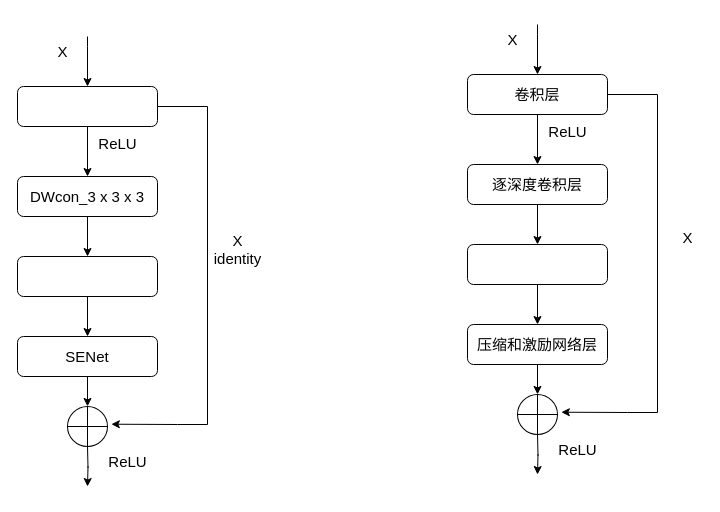
Image size: 720x512. Some labels were removed from this diagram. Each missing label, with the box of its shape:
Conv_3 x 3 x 3: (16, 86, 158, 126)
PWcon_1 x 1 x 1: (16, 256, 158, 296)
逐点卷积层: (466, 244, 608, 284)
